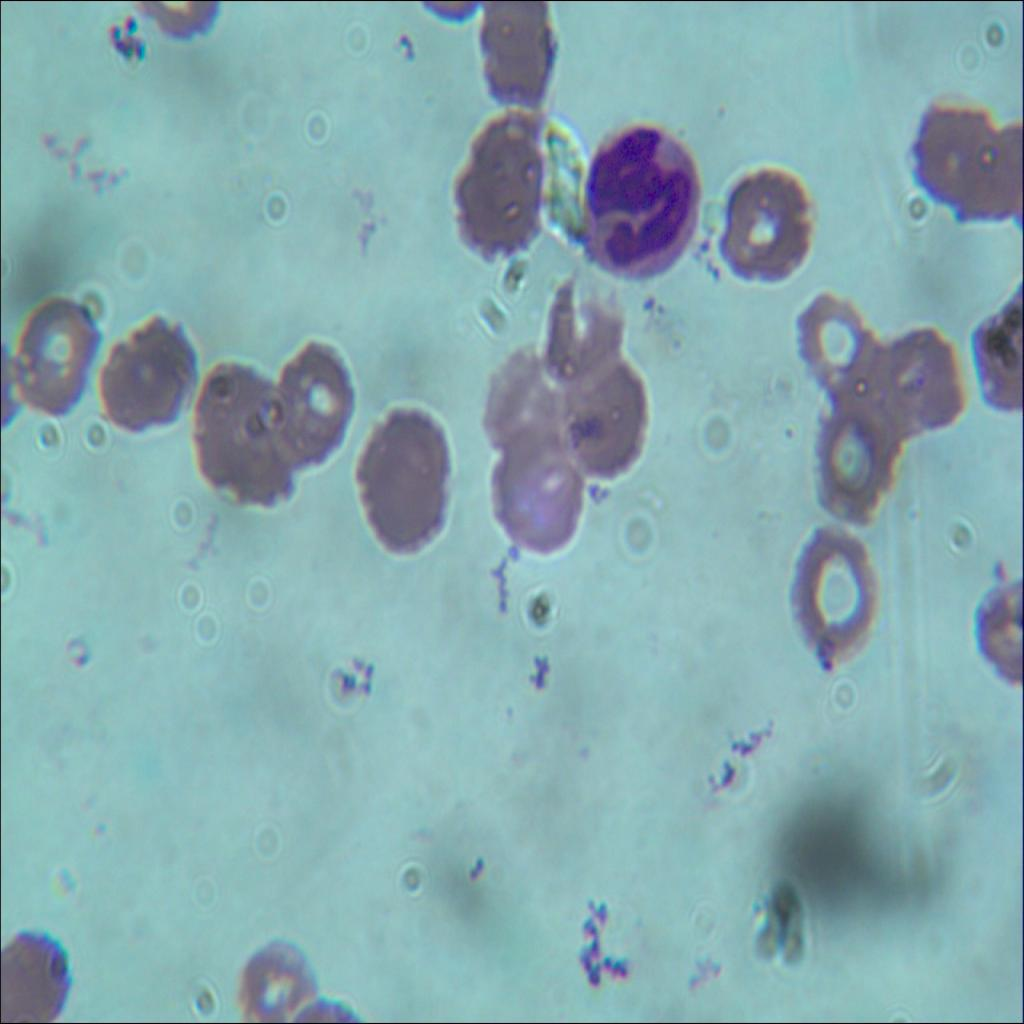Eritrosit: (186, 355, 291, 505), (449, 108, 548, 257), (355, 404, 451, 552), (91, 312, 198, 435), (706, 164, 810, 288), (906, 97, 1006, 221), (486, 426, 581, 556), (796, 526, 881, 661), (869, 321, 962, 437), (10, 298, 100, 417), (481, 339, 570, 458), (275, 339, 358, 465), (561, 368, 650, 485), (536, 274, 628, 387), (790, 291, 878, 409), (471, 0, 560, 109), (818, 406, 896, 518), (238, 932, 315, 1023), (0, 929, 69, 1023)
Neutrofil: (576, 117, 703, 284)
Platelet: (518, 649, 558, 691), (461, 851, 491, 892), (634, 285, 660, 322), (984, 552, 1011, 584)
